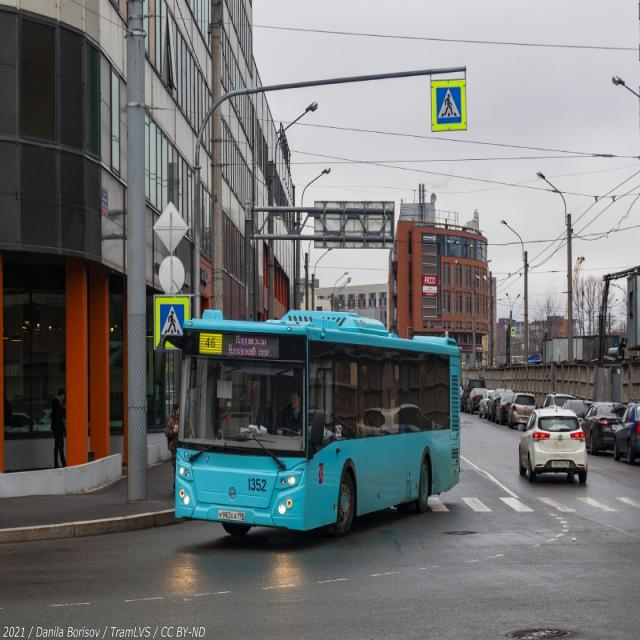number-of-bus: (205, 337, 219, 352)
